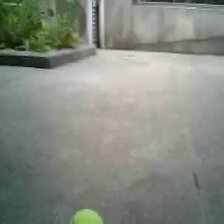tennis: (67, 210, 105, 224)
